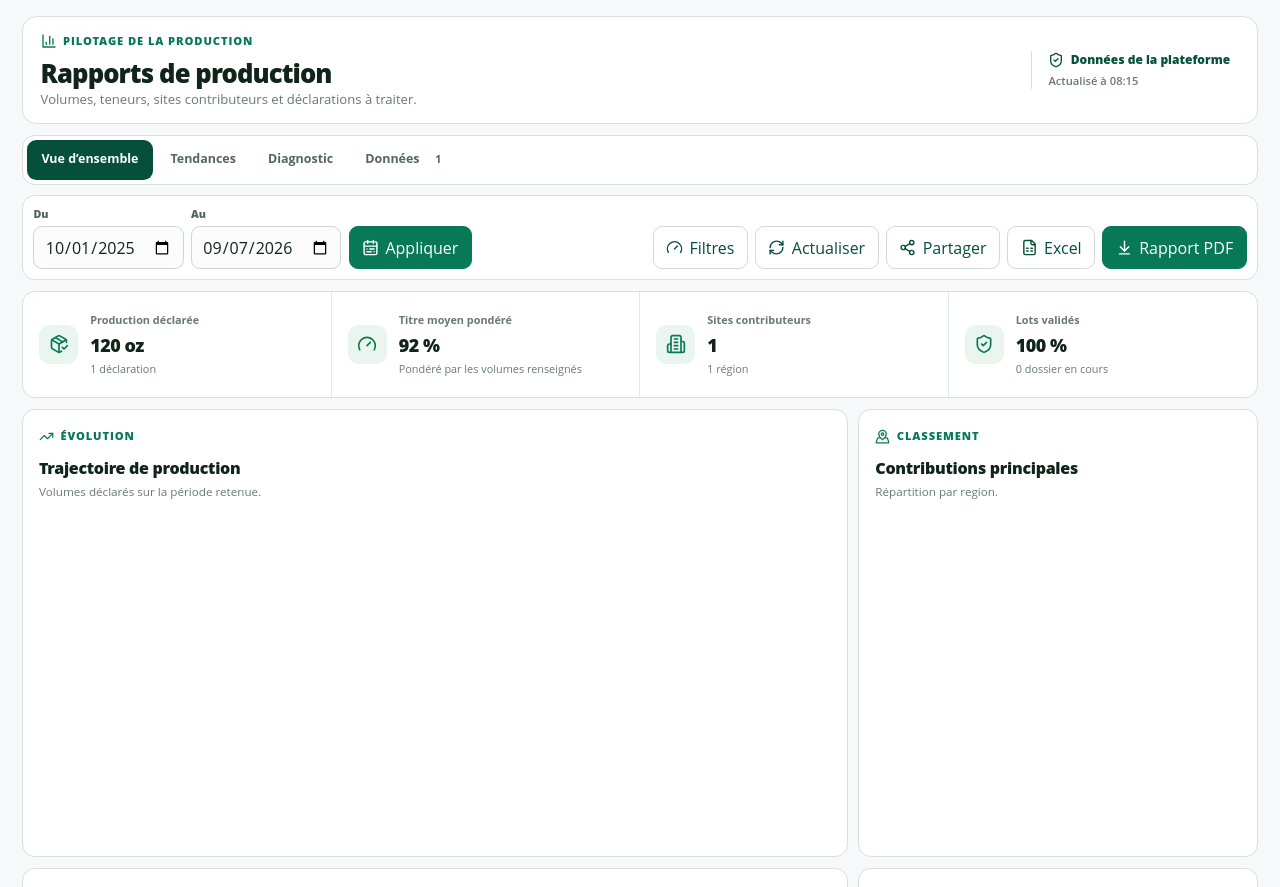
Test: BusinessIntelligenceWorkspace › conserve les filtres avancés repliés jusqu’à leur ouverture
Expected: the field labelled "Zone / région" is not shown
Click the button "Filtres" at (700, 248), box [653, 226, 748, 269]
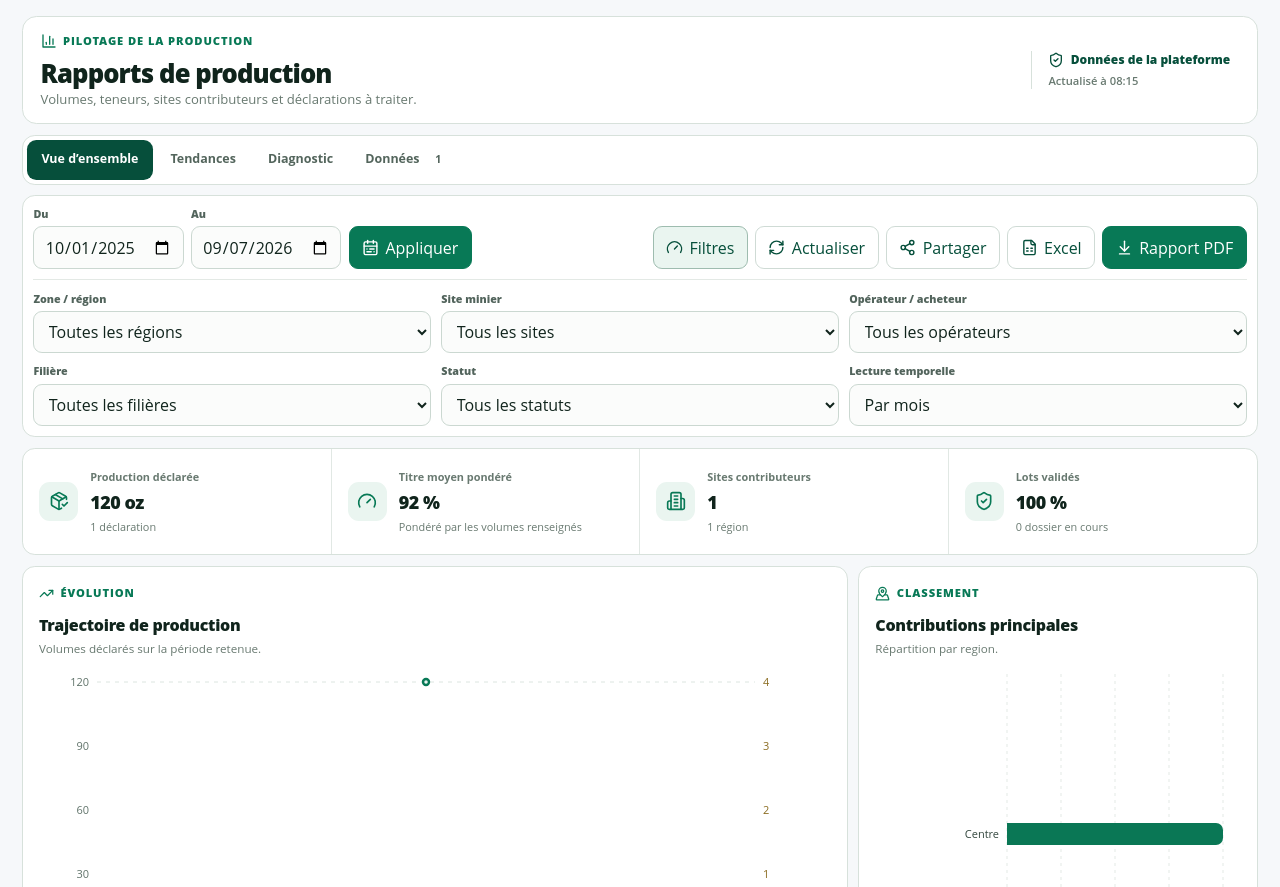
Result: the dropdown labelled "Zone / région" is shown at [33, 311, 431, 353]
